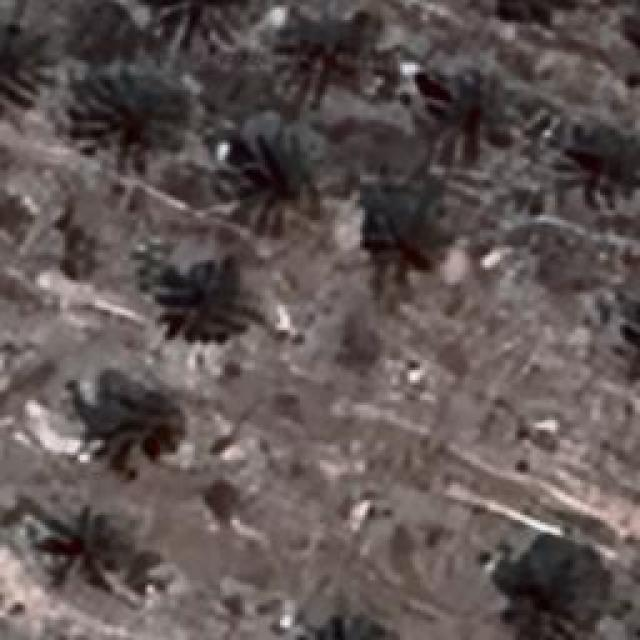PalmTree: (70, 52, 192, 170), (476, 547, 606, 640), (222, 128, 318, 222), (85, 392, 195, 468), (362, 180, 448, 275), (296, 21, 399, 91), (155, 270, 253, 340), (32, 514, 126, 586), (428, 67, 502, 155), (0, 17, 59, 125), (567, 117, 640, 194), (150, 0, 260, 45), (482, 0, 577, 25), (302, 615, 397, 640)
